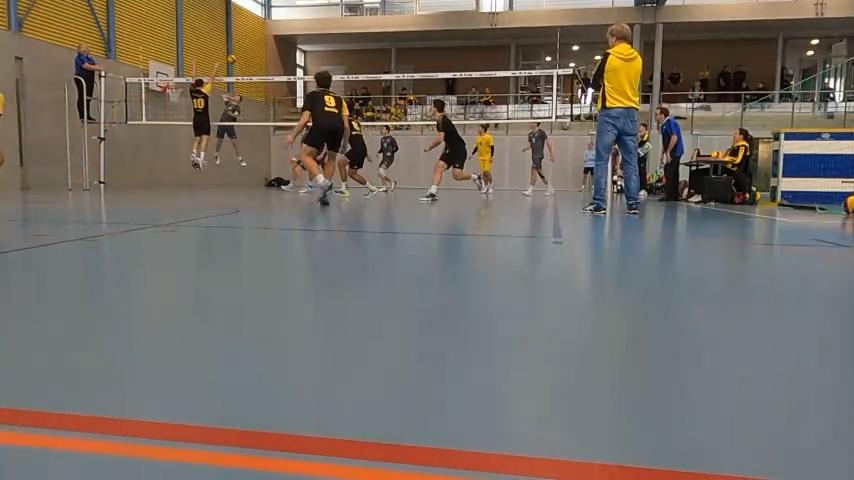Attack: (211, 74, 251, 170)
Block: (182, 59, 224, 174)
Player: (286, 70, 349, 205), (420, 98, 482, 201), (334, 117, 377, 197), (522, 122, 553, 195), (471, 124, 493, 193), (377, 125, 398, 191), (580, 138, 595, 191), (281, 157, 305, 190), (0, 93, 4, 117)
ball: (226, 52, 237, 65)
